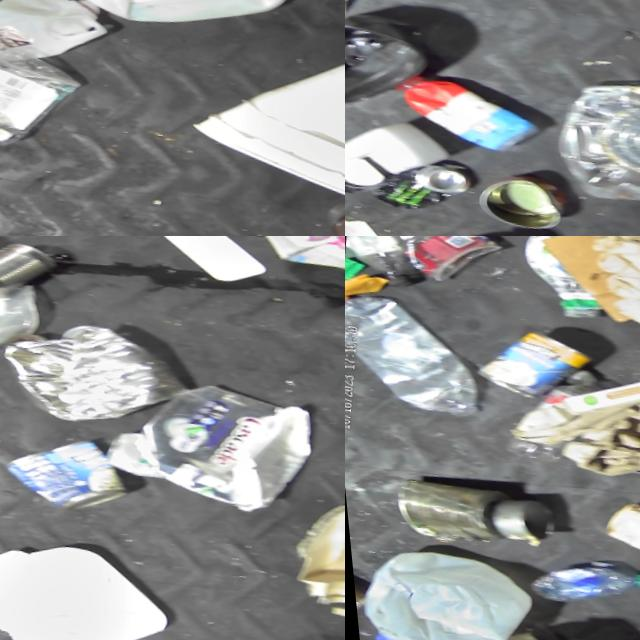can: (0, 423, 128, 530), (468, 320, 594, 415), (359, 154, 461, 227), (463, 172, 554, 236), (0, 236, 66, 317)
milk_jug: (59, 0, 314, 61), (345, 542, 499, 640), (0, 0, 94, 106), (217, 236, 345, 304)
non_white_jug: (383, 73, 536, 161)
plastic_bottle: (345, 281, 490, 429), (0, 35, 72, 191), (345, 236, 422, 296)
